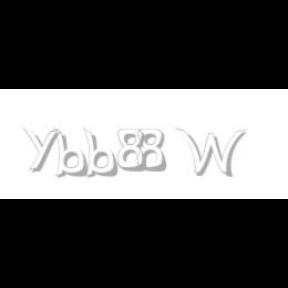8: (118, 128, 146, 172), (138, 128, 166, 172)
W: (174, 128, 246, 178)
b: (53, 128, 91, 178), (83, 128, 121, 178)
y: (23, 128, 63, 172)
